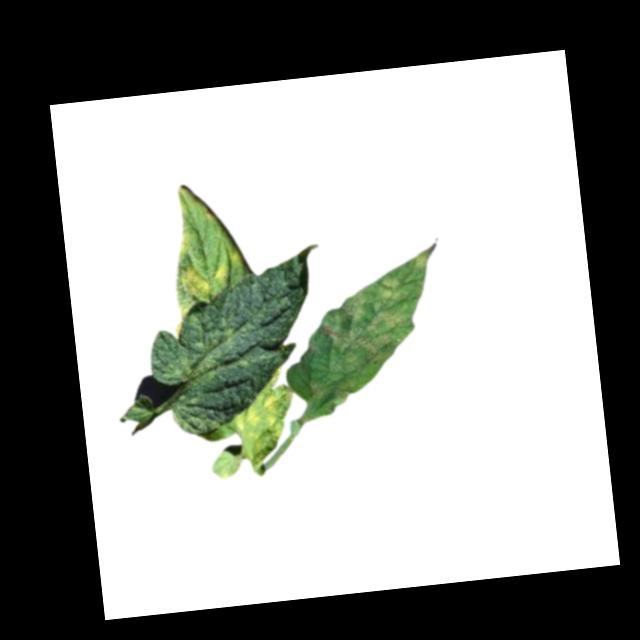Leaf_Mold: (308, 240, 449, 414), (227, 370, 296, 461), (174, 259, 232, 303), (174, 228, 201, 255), (227, 244, 244, 265)
